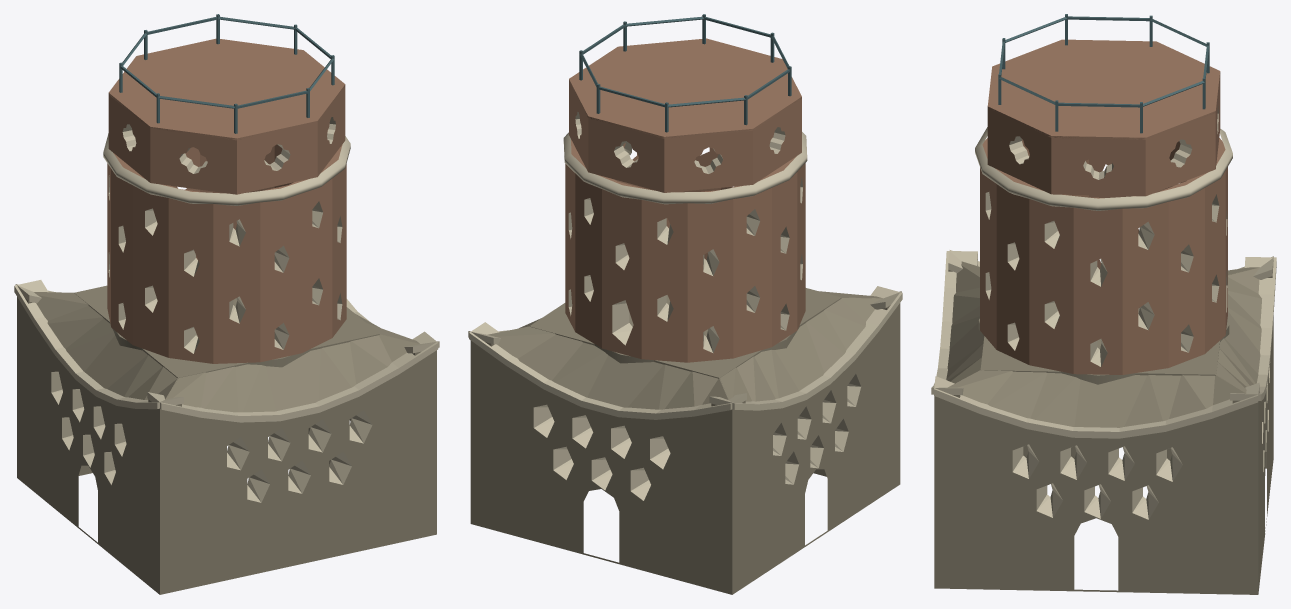
Rendered from fortin-heredia-far.glb.
3 views of the same model, side by side, from view 1: azimuth 30°, elevation 25°; view 2: azimuth 150°, elevation 25°; view 3: azimuth 270°, elevation 25° (orthographic). The views are drawn at different scales.
Visible parts, largest first — view 1: fortin-heredia-0-stone, fortin-heredia-0-brick, fortin-heredia-0-trim, fortin-heredia-0-rail, fortin-heredia-0-metal; view 2: fortin-heredia-0-stone, fortin-heredia-0-brick, fortin-heredia-0-trim, fortin-heredia-0-rail, fortin-heredia-0-metal; view 3: fortin-heredia-0-stone, fortin-heredia-0-brick, fortin-heredia-0-trim, fortin-heredia-0-rail, fortin-heredia-0-metal.
Boxes of the visible parts, box(x1,y1,x2,y2) form: fortin-heredia-0-stone: box(17, 285, 436, 594); fortin-heredia-0-brick: box(107, 38, 346, 363); fortin-heredia-0-trim: box(14, 117, 439, 502); fortin-heredia-0-rail: box(120, 16, 334, 108); fortin-heredia-0-metal: box(119, 14, 334, 133); fortin-heredia-0-stone: box(470, 288, 900, 594); fortin-heredia-0-brick: box(565, 38, 805, 362); fortin-heredia-0-trim: box(468, 112, 902, 500); fortin-heredia-0-rail: box(579, 16, 789, 107); fortin-heredia-0-metal: box(579, 14, 791, 132); fortin-heredia-0-stone: box(934, 261, 1273, 594); fortin-heredia-0-brick: box(980, 39, 1227, 374); fortin-heredia-0-trim: box(931, 106, 1276, 519); fortin-heredia-0-rail: box(999, 16, 1209, 107); fortin-heredia-0-metal: box(998, 14, 1209, 133).
Size of the model in its own units: 9.37 by 13.9 by 9.37.
